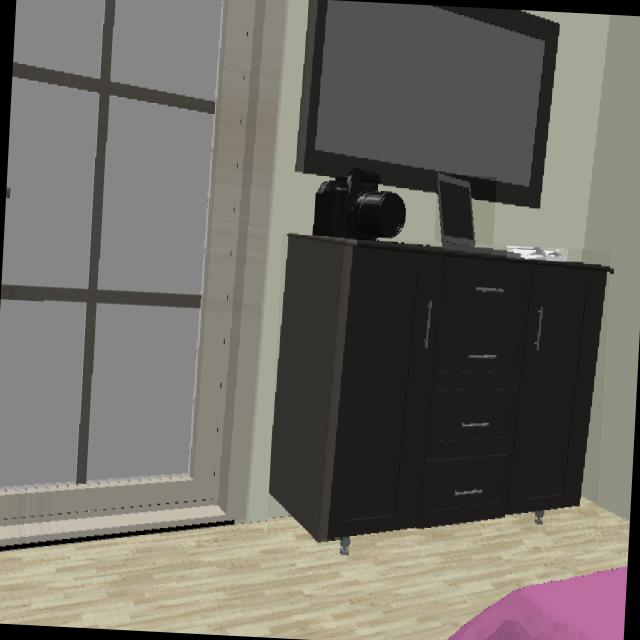book: (508, 247, 567, 262)
cabinet: (270, 235, 610, 538)
laptop: (438, 175, 493, 254)
